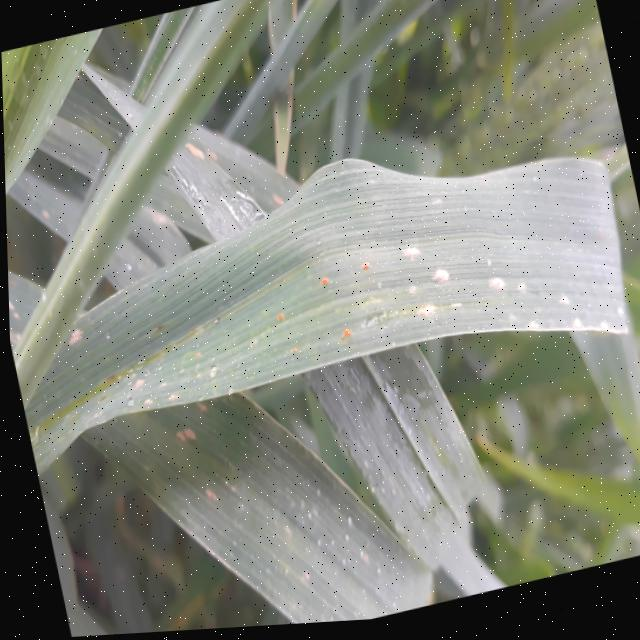orang_rust: (246, 222, 387, 378)
powder_mildew: (3, 102, 289, 488), (355, 96, 637, 411), (112, 355, 414, 635), (57, 578, 126, 638)
